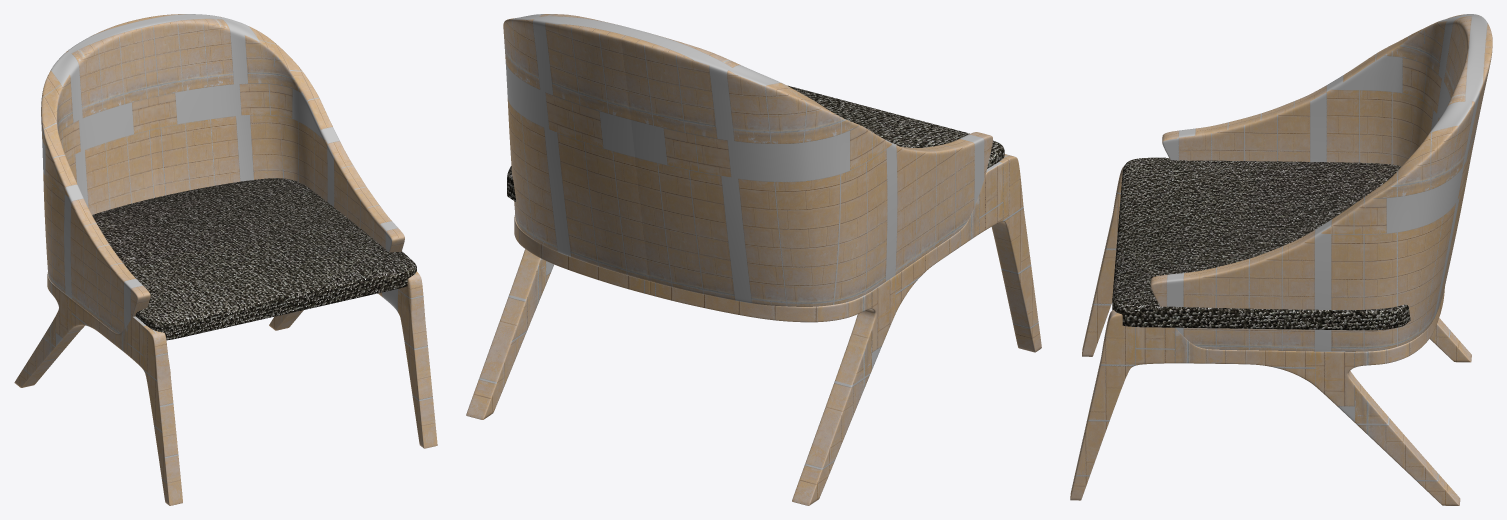
Rendered from chair_006.gltf.
The picture shows the model from 3 angles, left to right: view 1: azimuth 30°, elevation 25°; view 2: azimuth 150°, elevation 25°; view 3: azimuth 270°, elevation 25°; orthographic projection. The views are drawn at different scales.
Parts seen in each view (by area): view 1: chair_006_picioare, change_material; view 2: chair_006_picioare, change_material; view 3: chair_006_picioare, change_material.
Boxes of the visible parts, x1,y1,x2,y2 form: chair_006_picioare: (14,14,437,505); change_material: (92,178,416,340); chair_006_picioare: (466,14,1041,505); change_material: (507,85,1004,201); chair_006_picioare: (1070,14,1492,505); change_material: (1112,157,1410,330).
Size of the model in its own units: 2.04 by 2.33 by 2.32.
